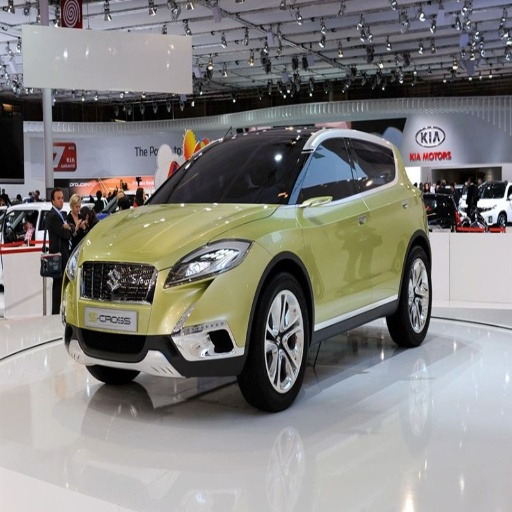front_bumper: (65, 258, 260, 372)
front_glass: (149, 145, 305, 203)
front_left_door: (301, 134, 370, 319)
